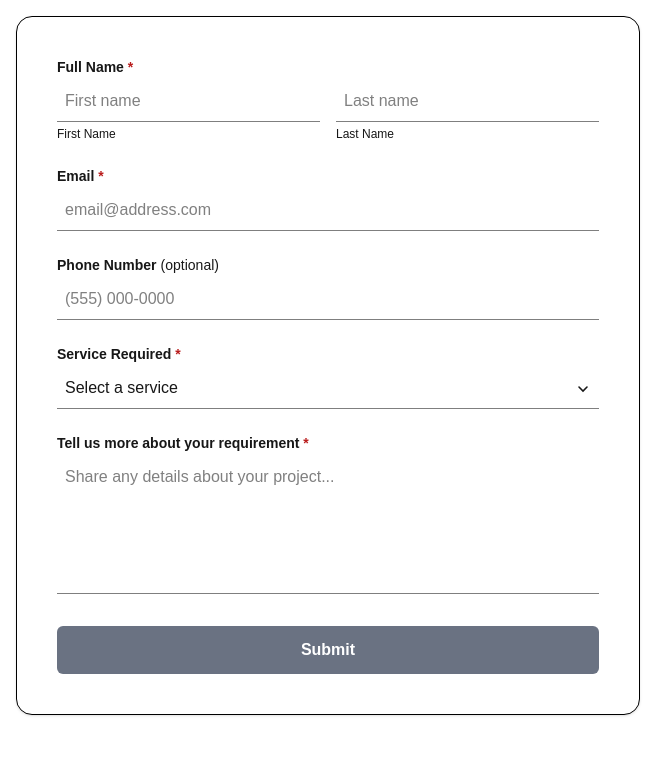
Test: ContactForm › shows an error message when the API returns a non-success response
Type "James" into the field with placeholder "First Name" at (188, 102), box [57,81,320,122]
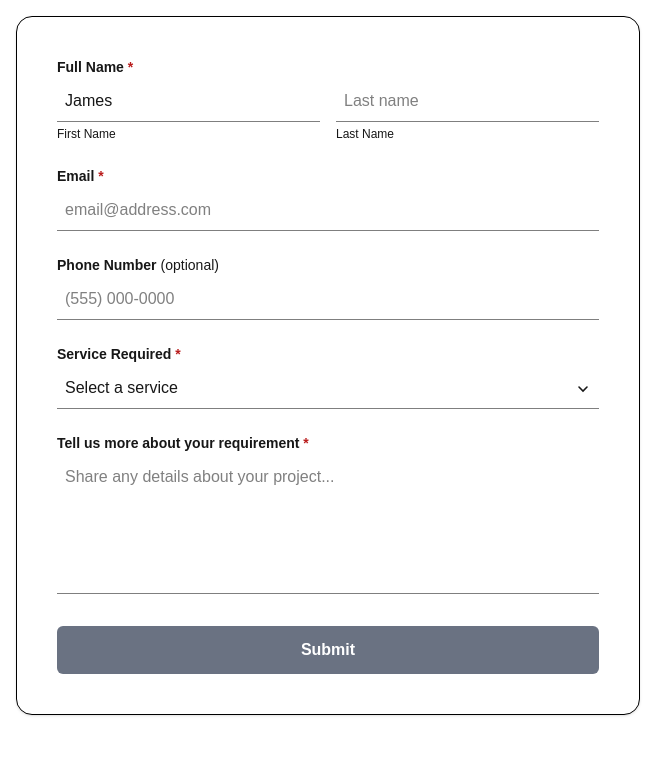
Type "Thomas" into the field with placeholder "Last Name" at (468, 102), box [336,81,599,122]
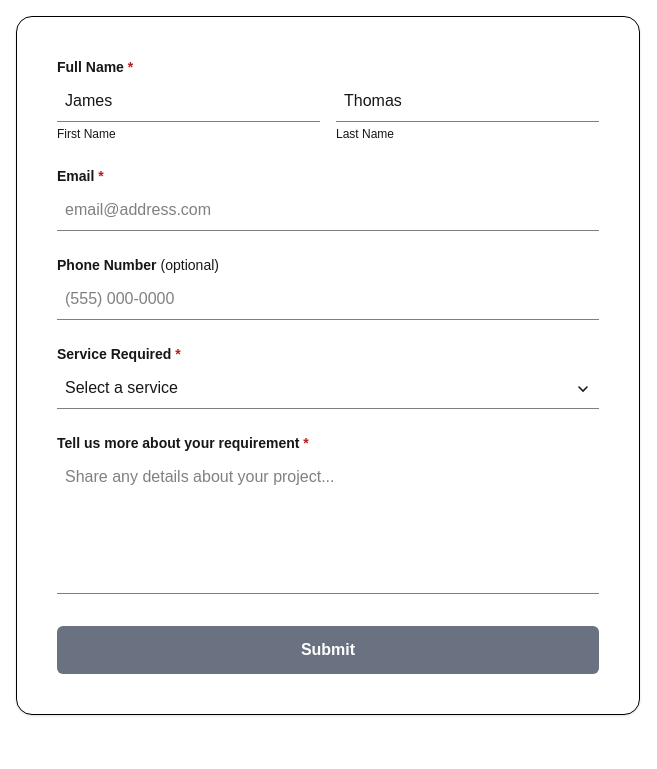
Type "james@example.com" into the field with placeholder "email@address.com" at (328, 210), box [57,190,599,231]
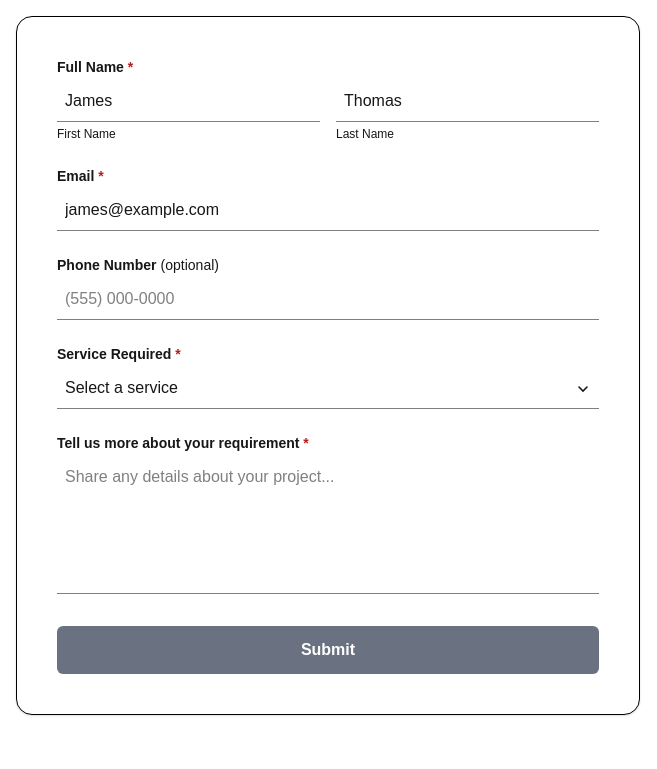
Select "Documentary Services" in the dropdown at (328, 388), box [57,368,599,409]
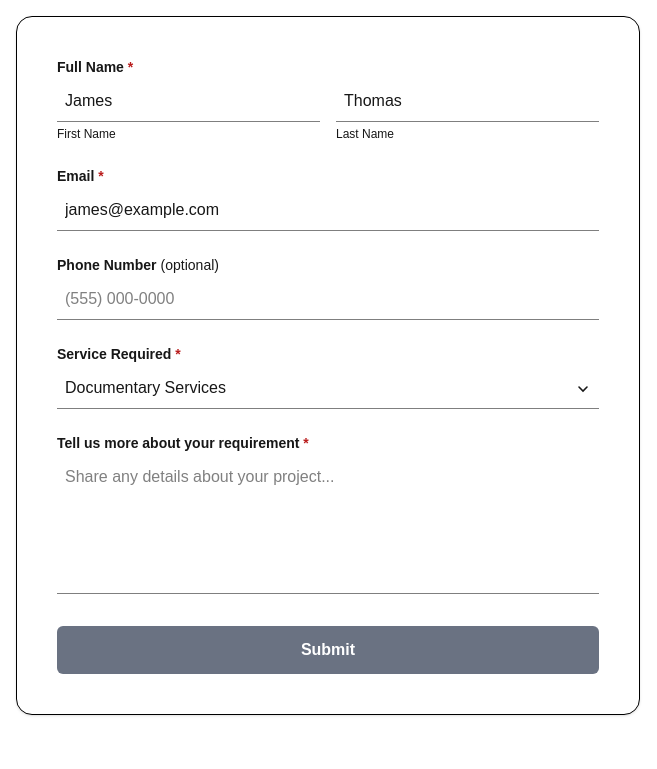
Type "I would like to book a documentary." into the text box with placeholder "Share any details about your project..." at (328, 526), box [57,457,599,594]
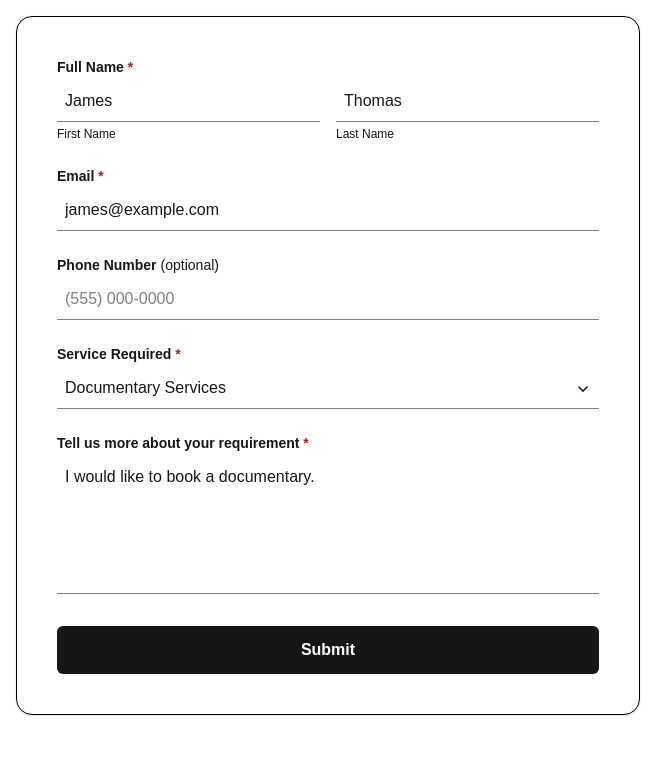
Click the button "Submit" at (328, 650), box [57,626,599,674]
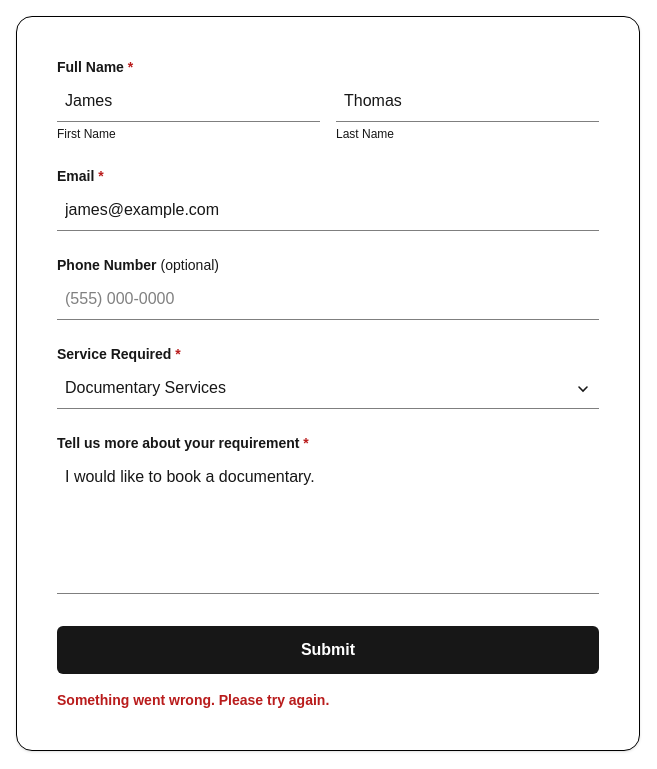
Expected: the text "Something went wrong. Please try again." is shown, [57,692,329,708]
